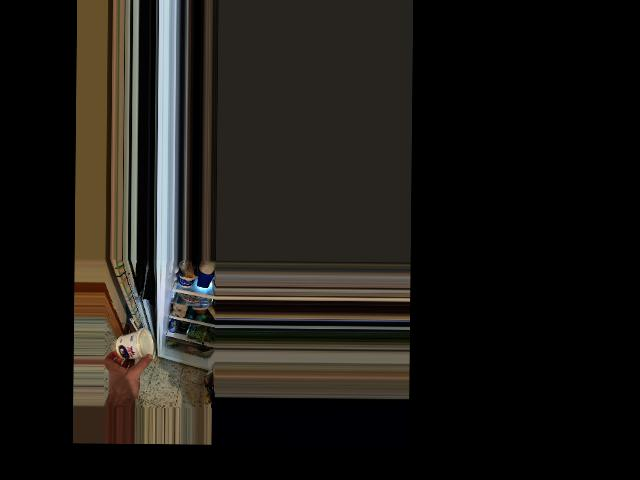cotage: (114, 328, 152, 363)
